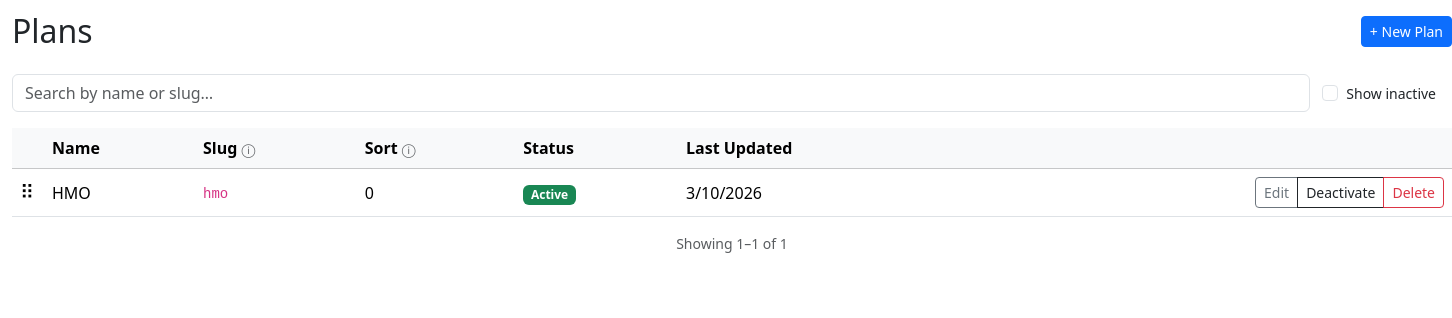
Scenario: PlansListPage › Search › filters rows by name
Expected: the text "HMO" is shown, [44,169,195,217]
Step 1. Click the checkbox labelled "Show inactive" → click(1330, 93), box [1322,85,1338,101]
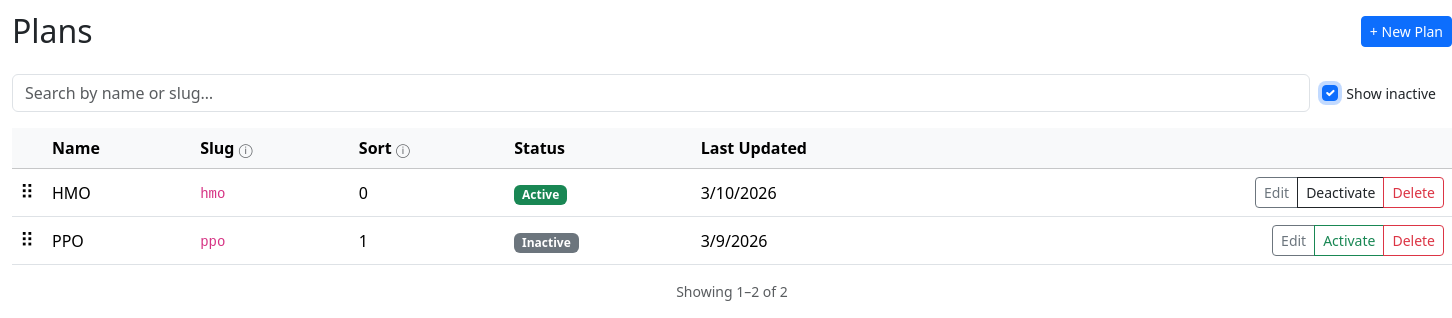
Step 2. Type "ppo" into the search field → (661, 93), box [12,74,1310,112]
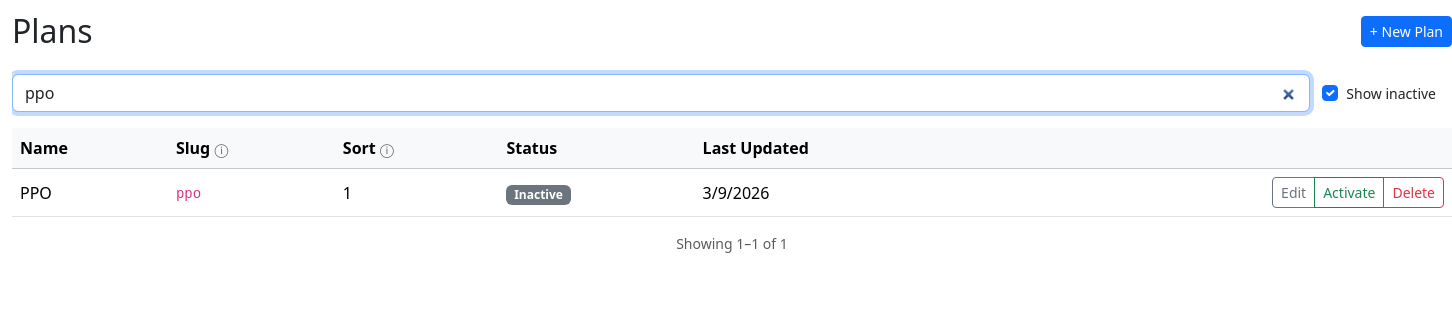
Expected: the text "PPO" is shown, [12,169,168,217]
Expected: the text "HMO" is gone
